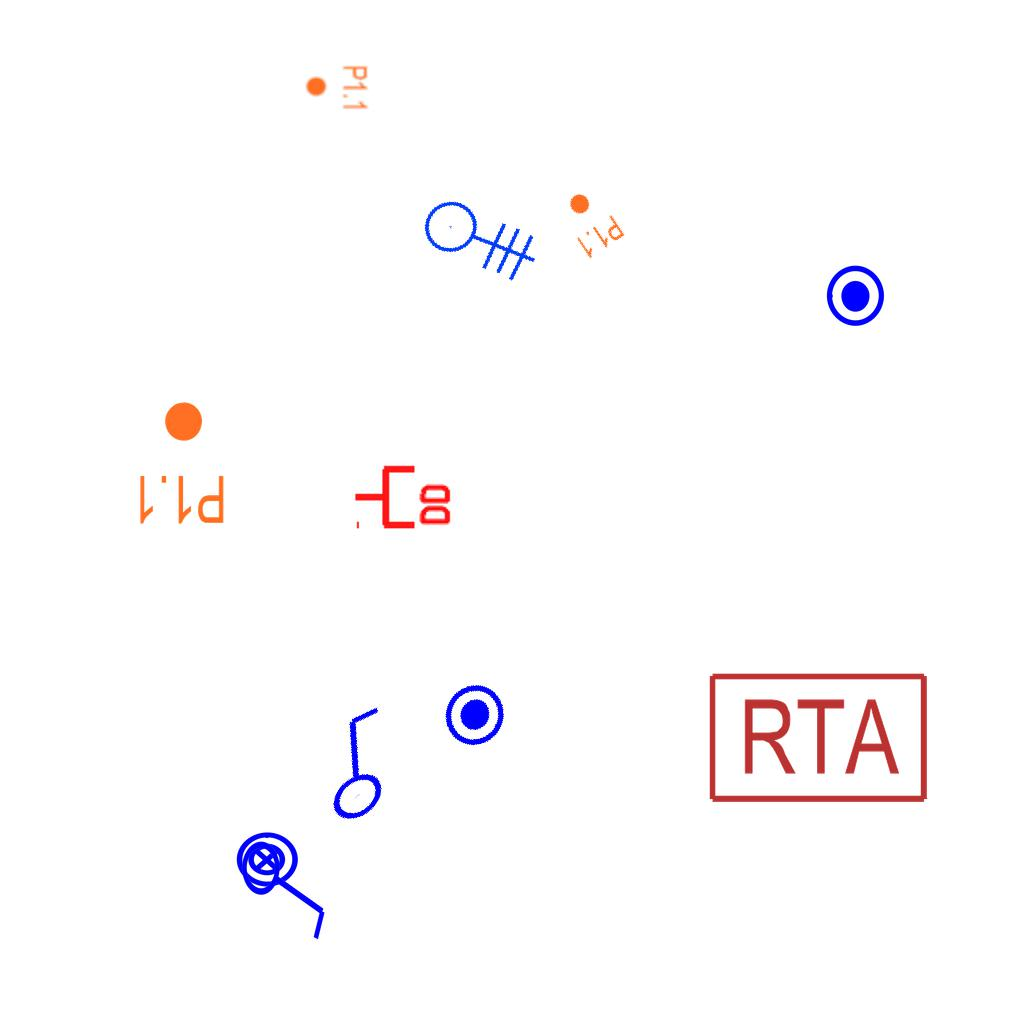Ausschalter: (281, 692, 429, 838), (239, 830, 335, 942)
Datenanschluss_zweifach: (352, 461, 455, 530)
Downlight_LED_Einbauleuchten_Flur_2: (134, 399, 227, 527), (553, 182, 627, 262), (305, 65, 369, 111)
Elektroanschluss_allgemein_400V_Geraeteanschlussdose_400V: (409, 155, 559, 306)
Ruf-und_Abstelltaster: (702, 669, 930, 807)
Taster: (432, 671, 522, 761), (820, 263, 886, 329)
Taster_beleuchtet: (234, 827, 300, 893)
